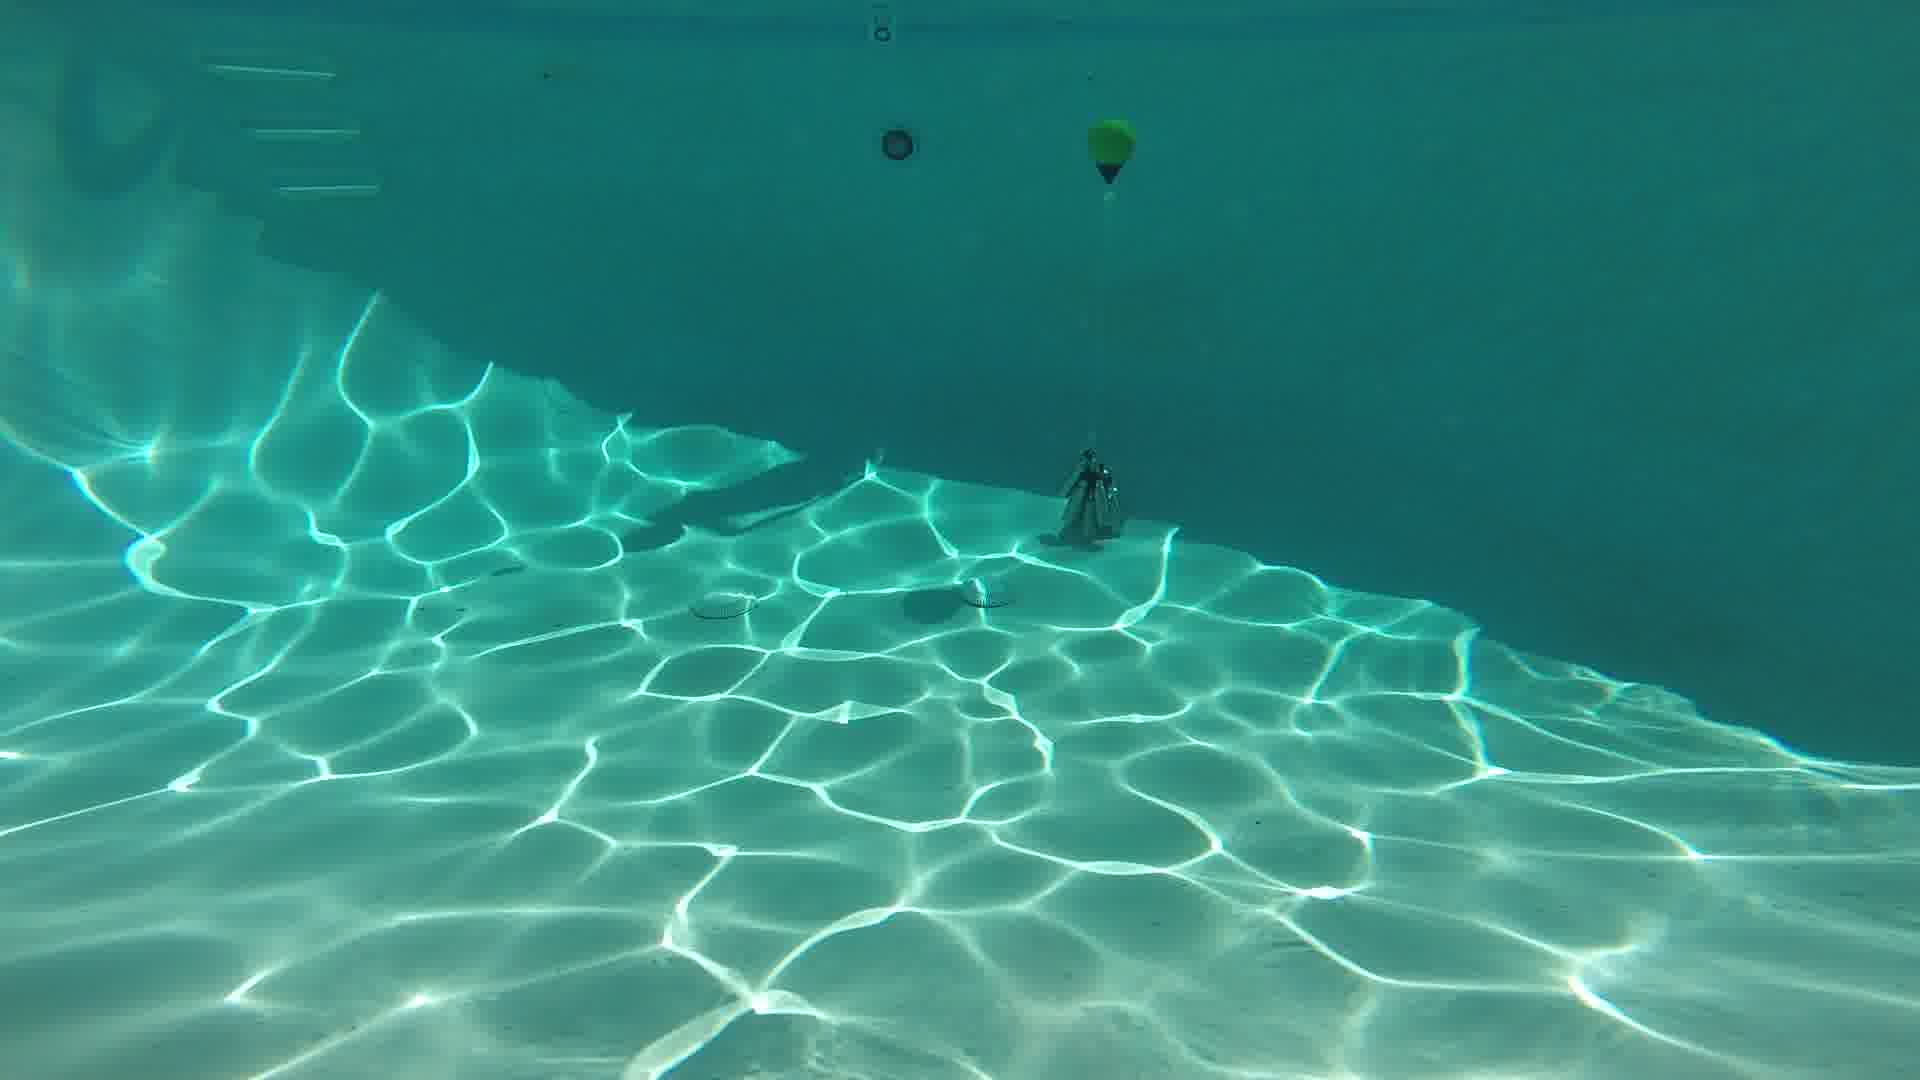yellow_buoy: (1088, 117, 1135, 186)
